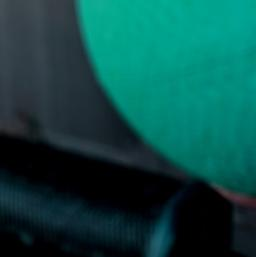algae: (76, 0, 256, 205)
